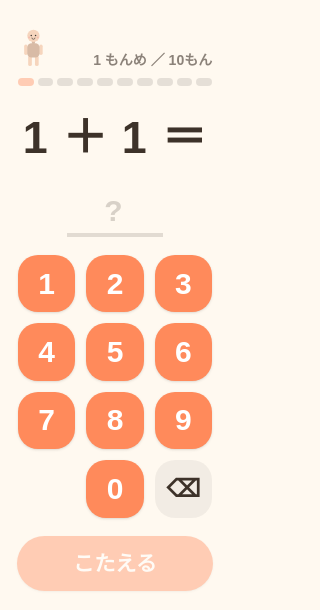
shows the question and a correct answer produces positive feedback
The width and height of the screenshot is (320, 610).
Expected: the heading "1 ＋ 1 ＝" is shown, [23,104,207,171]
Click the button "2": (115,284) [86,255,144,312]
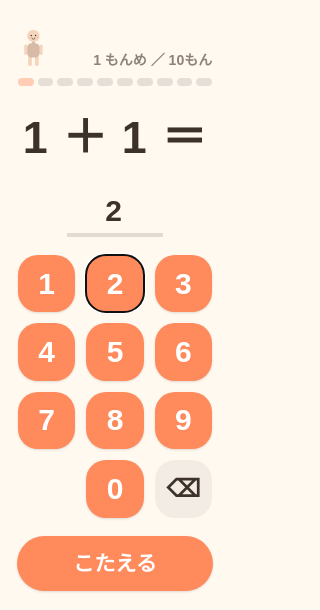
Click the button "こたえる": (115,563) [17,536,213,591]
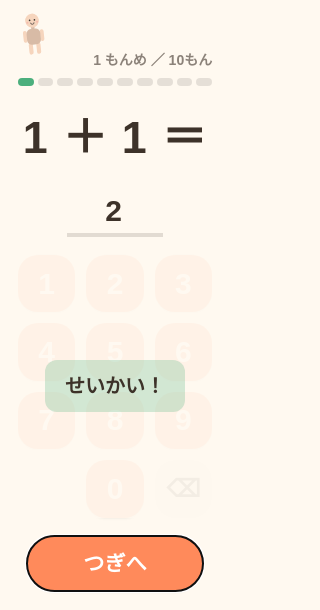
Expected: the text "せいかい！" is shown, [45,360,185,412]
